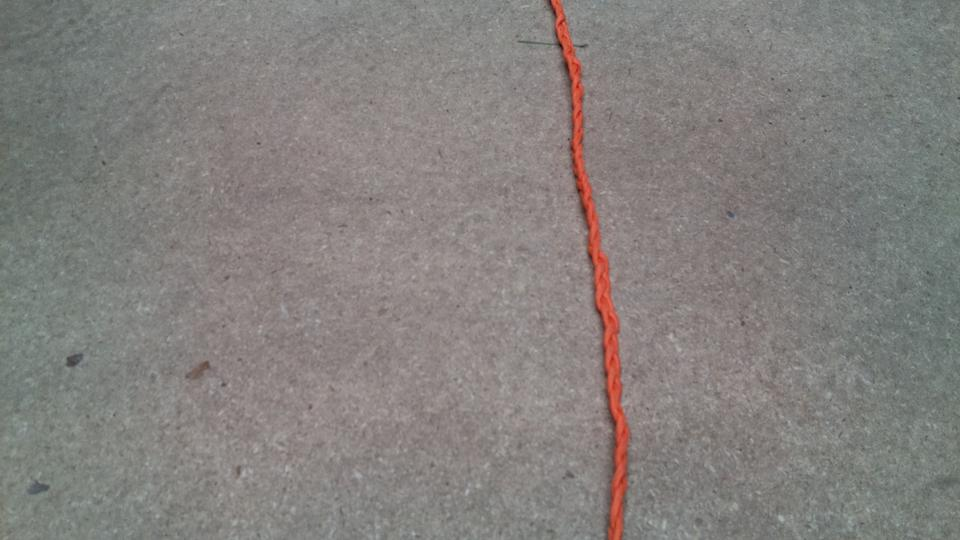rope: (543, 1, 636, 540)
